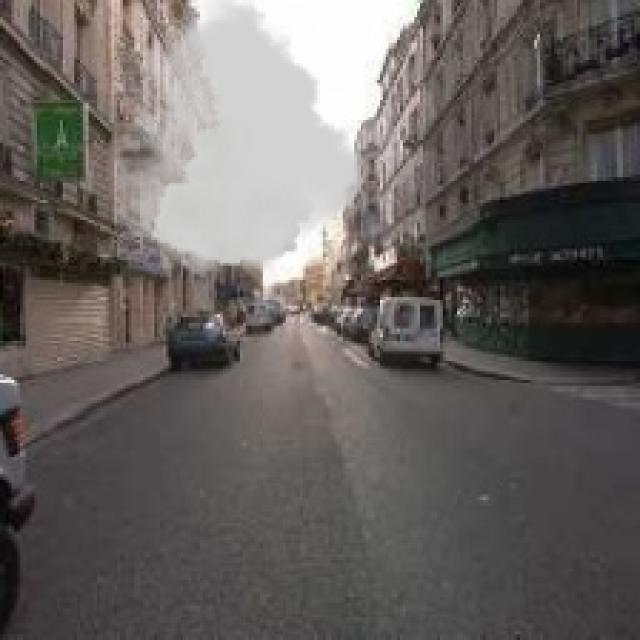Smoke: (114, 0, 363, 277)
